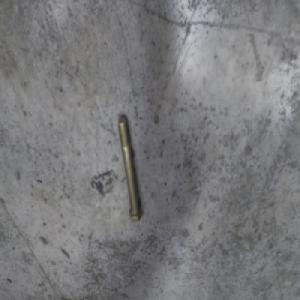Bolt: (115, 113, 140, 222)
